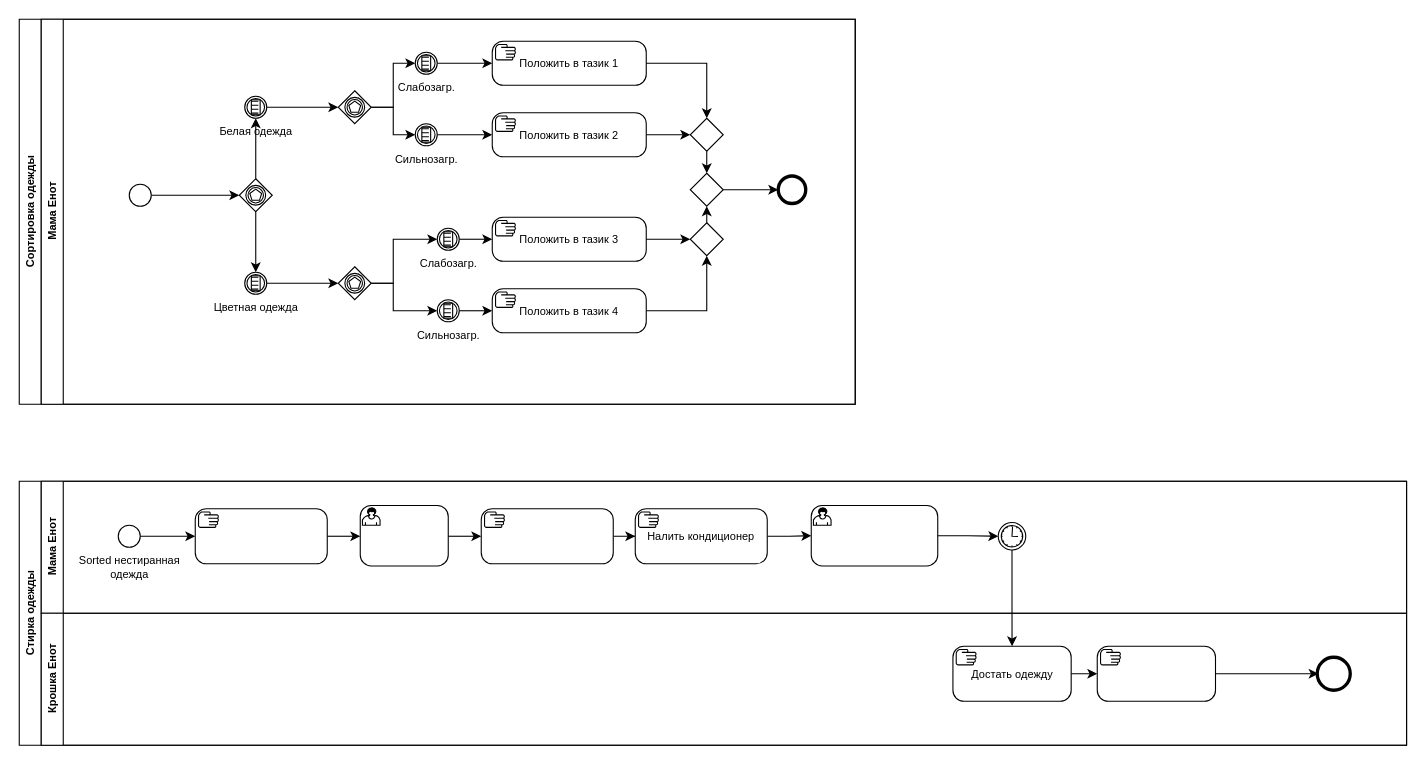
The diagram is 1427 pixels wide and 765 high, and some of its shapes have lost their labels. The centre of each missing label's shape, as x and y in pixels:
"Выставить программу" belongs at [403,535].
"Добавить порошок" belongs at [546,536].
"Запустить программу" belongs at [874,535].
"Неотсортированная одежда" belongs at [139,194].
"Одежда отсортирована" belongs at [791,189].
"Положить одежду в барабан" belongs at [260,536].
"Развесить" belongs at [1156,673].
"Стирка закончена" belongs at [1011,535].
"Тазик выстиран" belongs at [1333,673].
